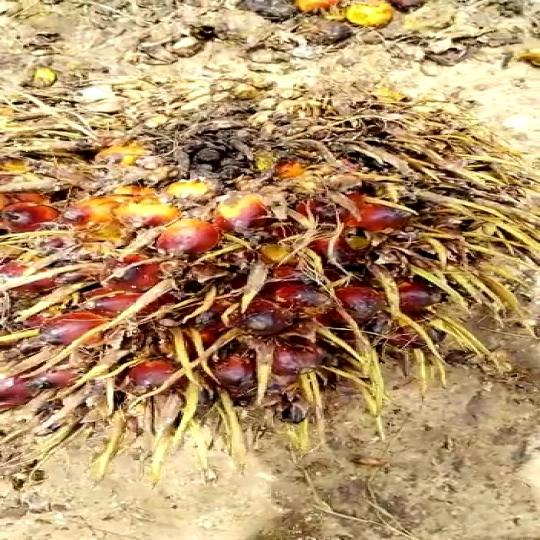masak: (0, 83, 540, 445)
